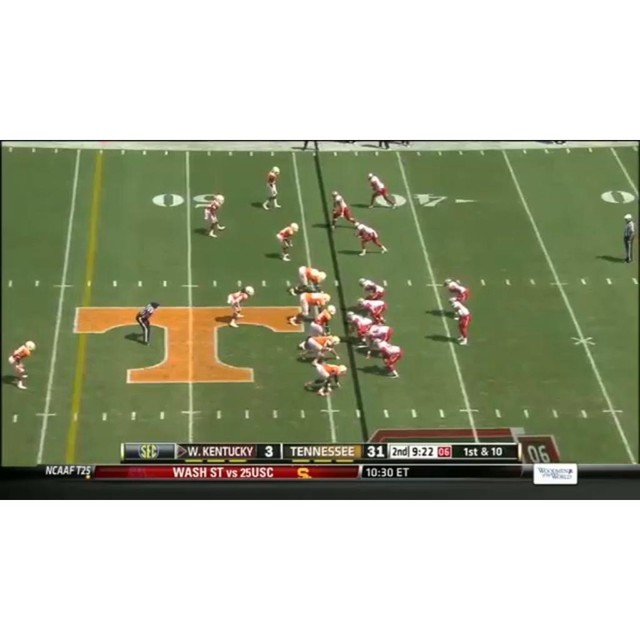american-football-player: (297, 306, 336, 348), (303, 361, 348, 397), (288, 291, 333, 325), (7, 340, 36, 390), (370, 337, 404, 379), (297, 334, 341, 365), (226, 284, 255, 328), (353, 221, 389, 256), (287, 266, 327, 296), (366, 173, 397, 210), (202, 193, 226, 239), (450, 296, 472, 346), (343, 310, 373, 346), (330, 191, 357, 228), (275, 222, 300, 261), (363, 323, 394, 353), (263, 166, 282, 210), (358, 297, 387, 324), (443, 278, 469, 303), (359, 278, 386, 302)
referee: (136, 300, 159, 347), (621, 214, 638, 265)
